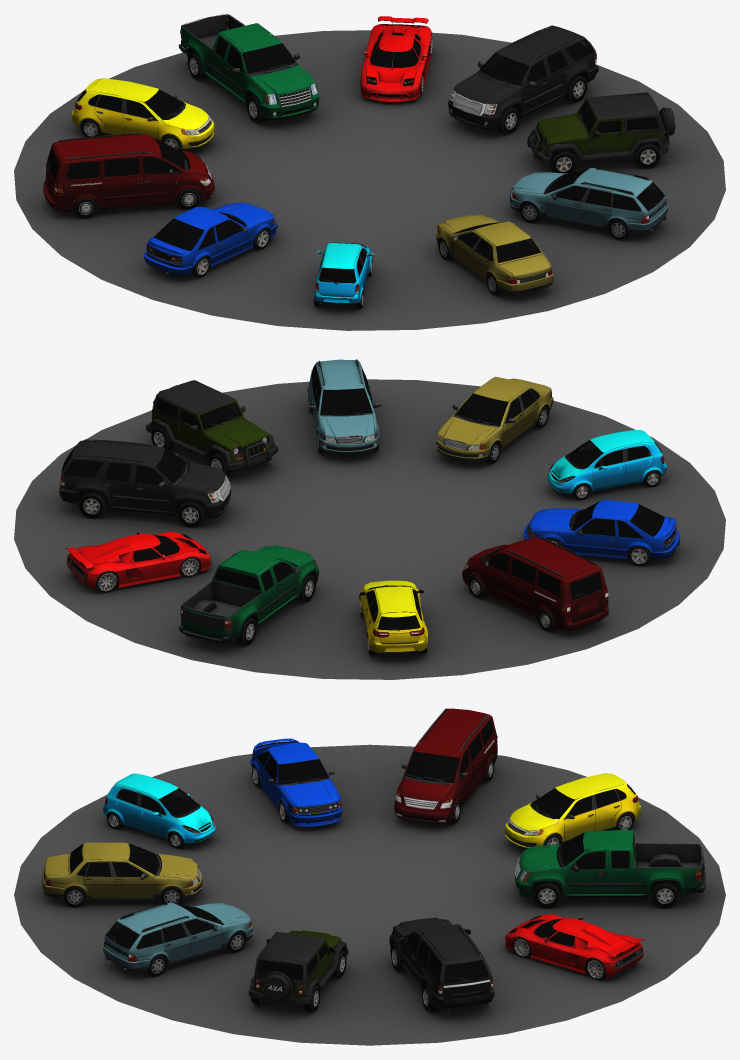
The model's file is civil_cars.glb.
The picture shows the model from 3 angles, top to bottom: view 1: azimuth 30°, elevation 25°; view 2: azimuth 150°, elevation 25°; view 3: azimuth 270°, elevation 25°; orthographic projection.
Visible parts, largest first — view 1: Cylinder001, minivan body, SUV Body, Pickup Body, Wagon Body, Offroad Body, Hatchback Body, Coupe Body, Sedan Body, Sport body, Compact Body, Wheel_G001 (+1 smaller); view 2: Cylinder001, SUV Body, minivan body, Pickup Body, Offroad Body, Coupe Body, Sedan Body, Wagon Body, Sport body, Compact Body, Hatchback Body, Wheel_E003_Wheel_0.001 (+1 smaller); view 3: Cylinder001, Pickup Body, minivan body, Sedan Body, Wagon Body, SUV Body, Hatchback Body, Coupe Body, Offroad Body, Sport body, Compact Body, Wheel_E001 (+1 smaller).
Boxes of the visible parts, left/top/right/bottom form: Cylinder001: left=14, top=30, right=725, bottom=330; minivan body: left=43, top=133, right=214, bottom=211; SUV Body: left=448, top=25, right=598, bottom=129; Pickup Body: left=178, top=14, right=319, bottom=120; Wagon Body: left=509, top=168, right=667, bottom=234; Offroad Body: left=527, top=92, right=675, bottom=163; Hatchback Body: left=72, top=78, right=214, bottom=149; Coupe Body: left=144, top=202, right=277, bottom=275; Sedan Body: left=436, top=214, right=553, bottom=294; Sport body: left=361, top=16, right=431, bottom=101; Compact Body: left=314, top=242, right=374, bottom=305; Wheel_G001: left=634, top=142, right=660, bottom=168; Cylinder001: left=14, top=379, right=725, bottom=679; SUV Body: left=59, top=439, right=230, bottom=518; minivan body: left=462, top=537, right=608, bottom=630; Pickup Body: left=178, top=545, right=319, bottom=644; Offroad Body: left=146, top=380, right=278, bottom=470; Coupe Body: left=523, top=500, right=679, bottom=559; Sedan Body: left=436, top=376, right=553, bottom=461; Wagon Body: left=307, top=359, right=380, bottom=454; Sport body: left=65, top=531, right=210, bottom=589; Compact Body: left=547, top=430, right=666, bottom=494; Hatchback Body: left=359, top=580, right=427, bottom=654; Wheel_E003_Wheel_0.001: left=78, top=490, right=106, bottom=518; Cylinder001: left=14, top=744, right=725, bottom=1045; Pickup Body: left=515, top=829, right=705, bottom=898; minivan body: left=394, top=708, right=497, bottom=823; Sedan Body: left=42, top=842, right=203, bottom=900; Wagon Body: left=102, top=902, right=253, bottom=971; SUV Body: left=389, top=917, right=494, bottom=1011; Hatchback Body: left=504, top=773, right=641, bottom=848; Coupe Body: left=250, top=738, right=342, bottom=826; Offroad Body: left=248, top=930, right=348, bottom=1005; Sport body: left=505, top=914, right=644, bottom=977; Compact Body: left=102, top=773, right=215, bottom=844; Wheel_E001: left=651, top=880, right=678, bottom=908.
Size of the model in its own units: 19.27 by 1.77 by 19.27.
41 materials, 31 textured.
